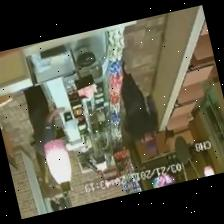person: (121, 62, 157, 150), (23, 85, 63, 155), (30, 142, 59, 205)
